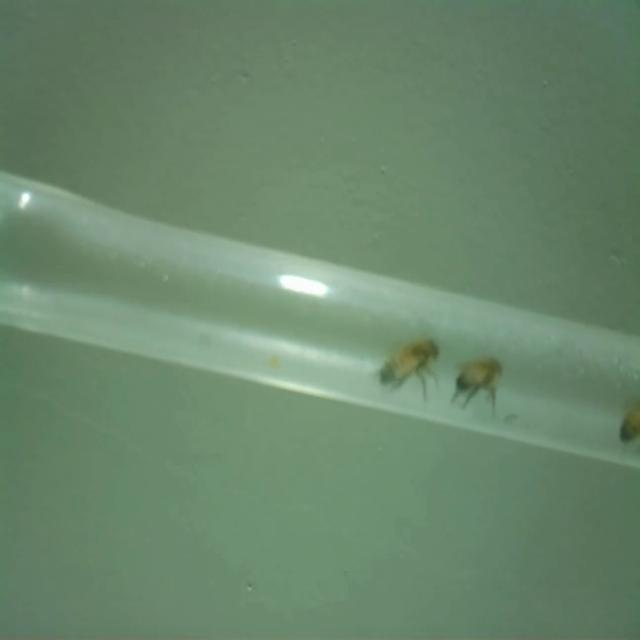Honeybee-Detection: (377, 331, 440, 401), (451, 353, 504, 417), (619, 403, 640, 442)
